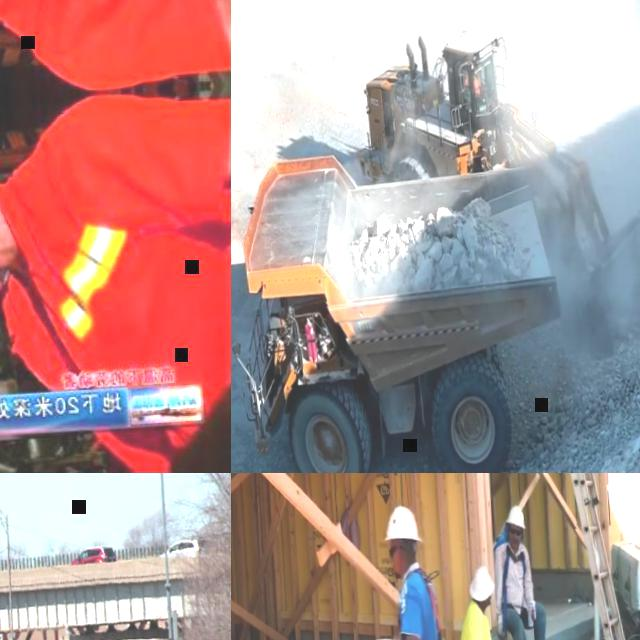helmet: (382, 504, 424, 548), (468, 565, 498, 603), (505, 504, 527, 530)
machinery: (231, 136, 580, 473), (342, 12, 640, 371)
no_mask: (393, 555, 405, 576), (510, 537, 522, 549), (487, 598, 493, 606)
no_vest: (399, 568, 449, 640), (499, 542, 530, 608), (459, 609, 494, 640)
person: (0, 77, 231, 451), (0, 0, 231, 112), (362, 504, 459, 640), (489, 503, 557, 640), (450, 561, 549, 640)
vehicle: (159, 536, 209, 556), (70, 545, 118, 565)
vest: (7, 170, 231, 438), (1, 0, 231, 86)
